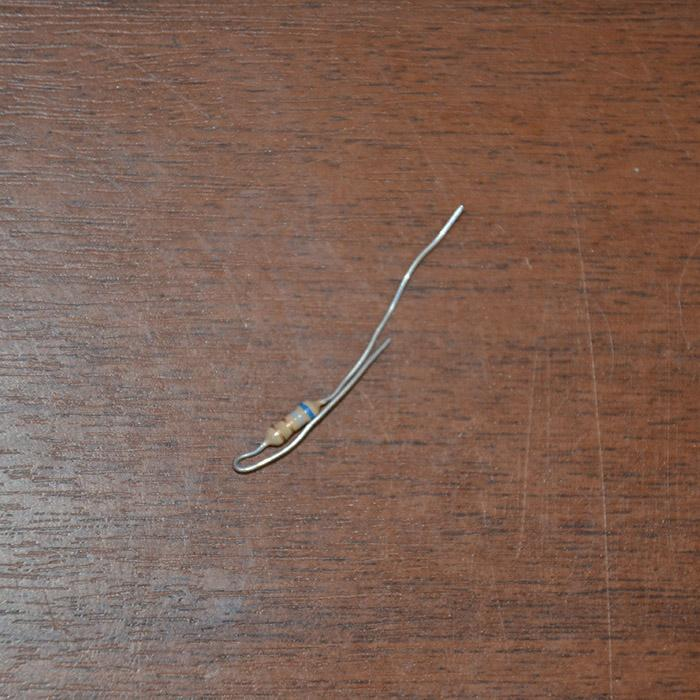resistor: (263, 398, 324, 446)
